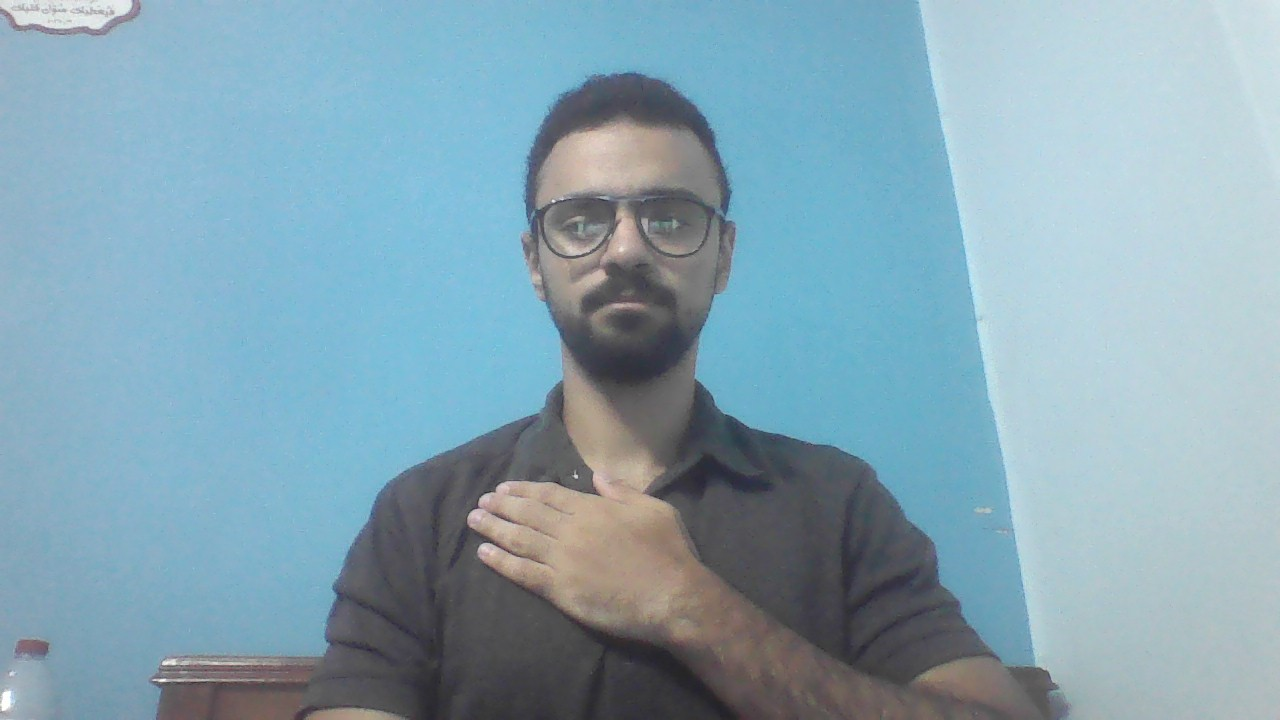please: (469, 468, 711, 641)
